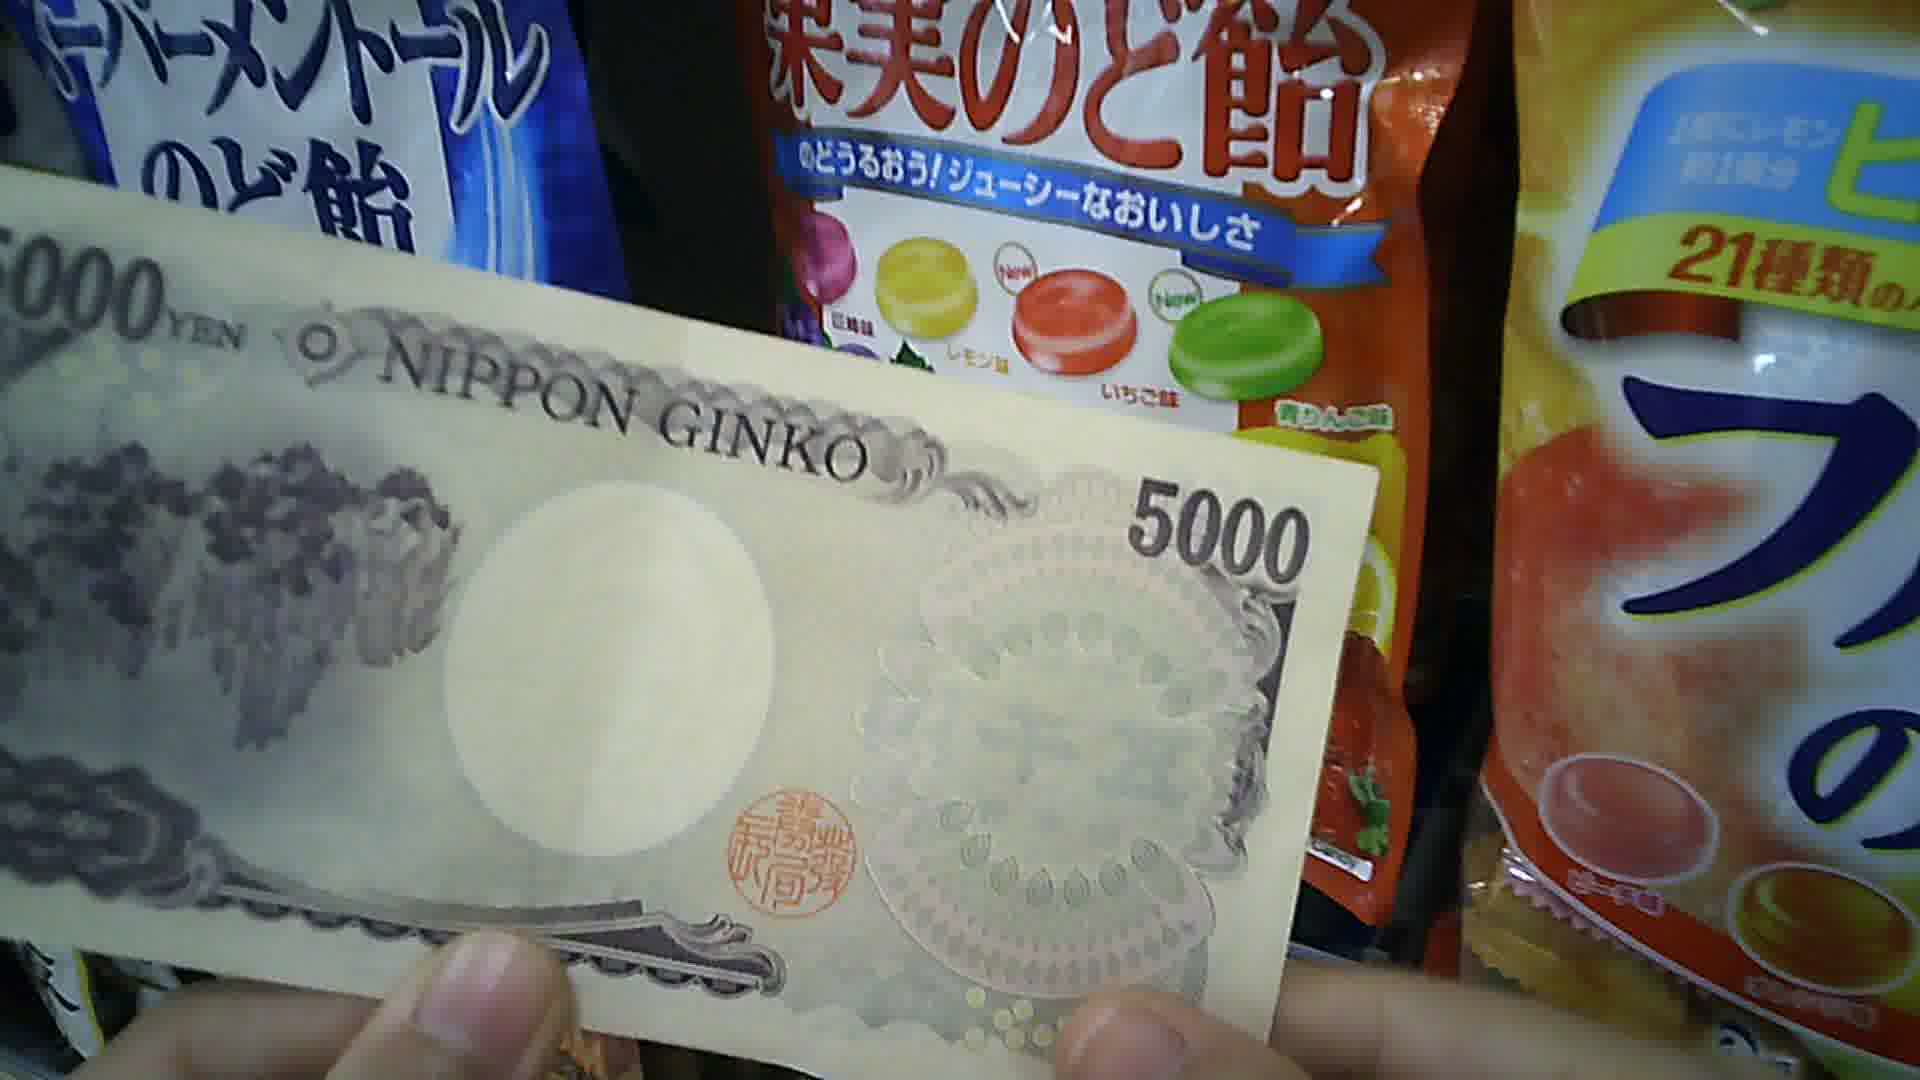5,000 Yen: (15, 158, 1356, 1077)
